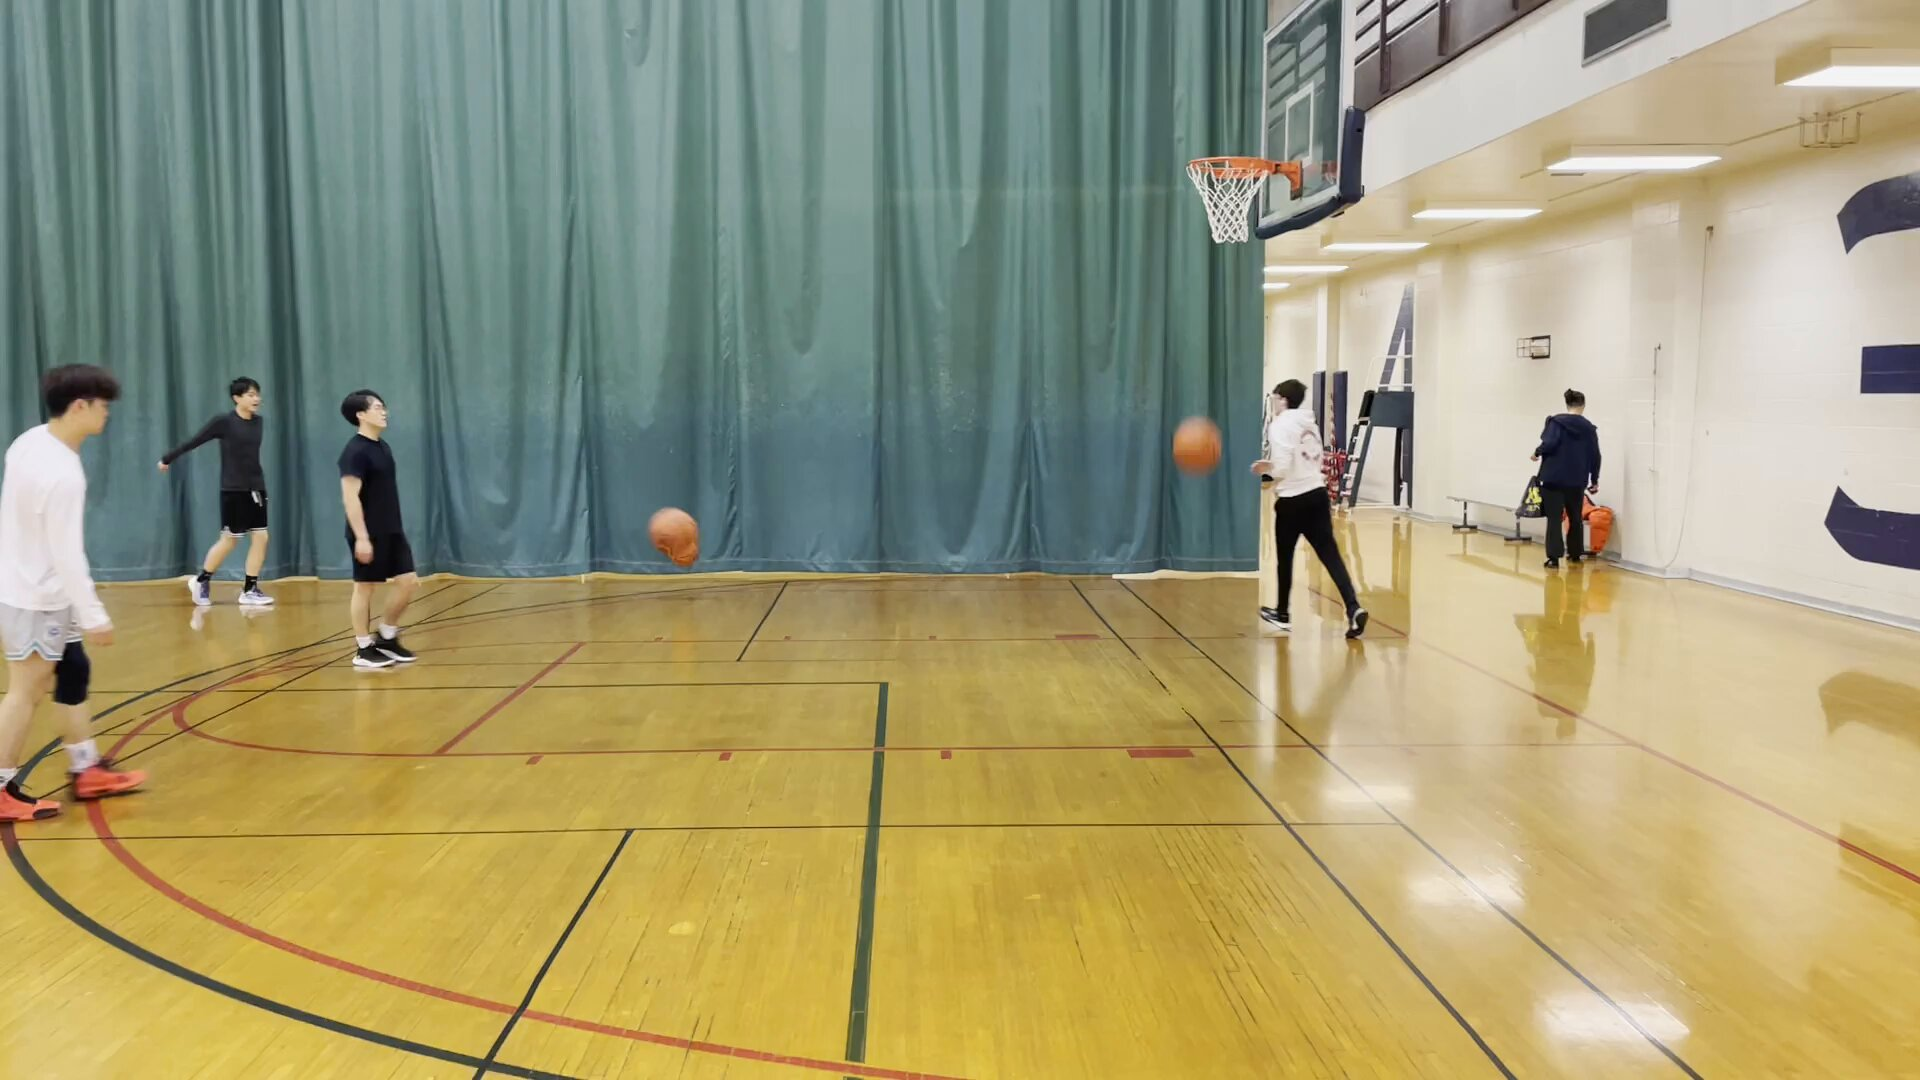ball: (1168, 417, 1223, 468), (648, 506, 698, 557)
net: (1200, 218, 1261, 248)
player: (15, 363, 149, 822), (1251, 380, 1371, 642), (157, 368, 279, 609), (335, 387, 422, 674), (1529, 390, 1604, 570)
rim: (1182, 151, 1283, 183)
